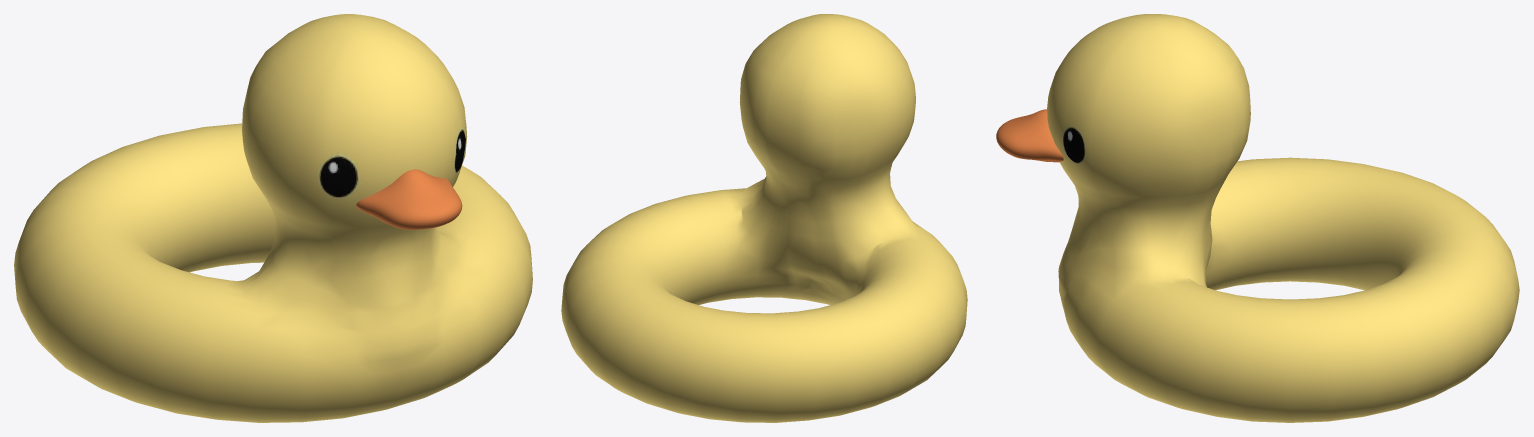
Rendered from duck_floaty-transformed.glb.
3 renders of one model, left to right at view 1: azimuth 30°, elevation 25°; view 2: azimuth 150°, elevation 25°; view 3: azimuth 270°, elevation 25°, orthographic. The views are drawn at different scales.
Parts seen in each view (by area): view 1: simple_1, bill simple_0; view 2: simple_1; view 3: simple_1, bill simple_0.
Part boxes in pixels (x1,y1,x2,y2): simple_1: (14, 14, 532, 422); bill simple_0: (356, 169, 462, 229); simple_1: (561, 14, 967, 422); simple_1: (1046, 14, 1519, 422); bill simple_0: (996, 109, 1063, 162).
Bounding box in the file's own units: 4.68 × 3.65 × 5.34.
2 materials, 1 textured.
